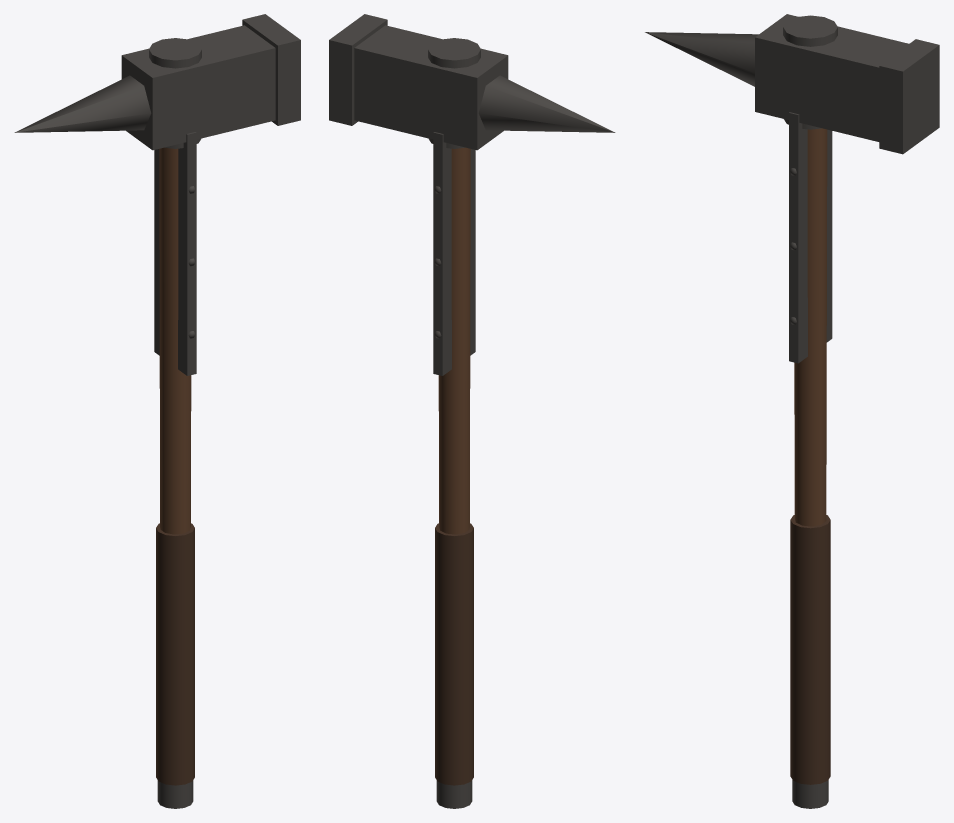
The model's file is warhammer.glb.
3 renders of one model, left to right at view 1: azimuth 30°, elevation 25°; view 2: azimuth 150°, elevation 25°; view 3: azimuth 330°, elevation 25°, orthographic. The views are drawn at different scales.
Parts seen in each view (by area): view 1: WeaponDrawn; view 2: WeaponDrawn; view 3: WeaponDrawn.
Boxes of the visible parts, box(x1,y1,x2,y2) form: WeaponDrawn: box(14, 14, 300, 808); WeaponDrawn: box(329, 14, 615, 808); WeaponDrawn: box(645, 14, 939, 808).
Size of the model in its own units: 0.35 by 0.935 by 0.08.
